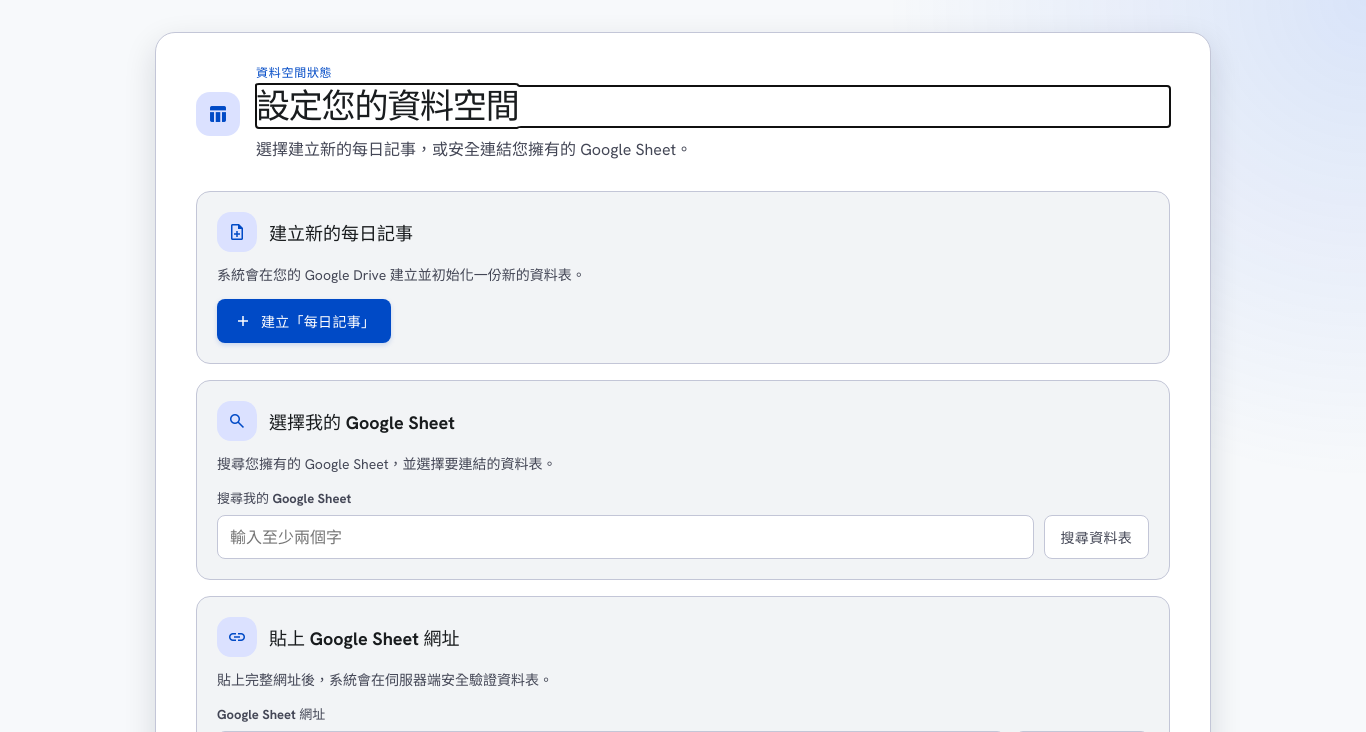
Test: 設定失敗時保留介面並顯示可讀錯誤
In the field labelled "搜尋我的 Google Sheet": (625, 537) [217,515,1034,559], type "記事"
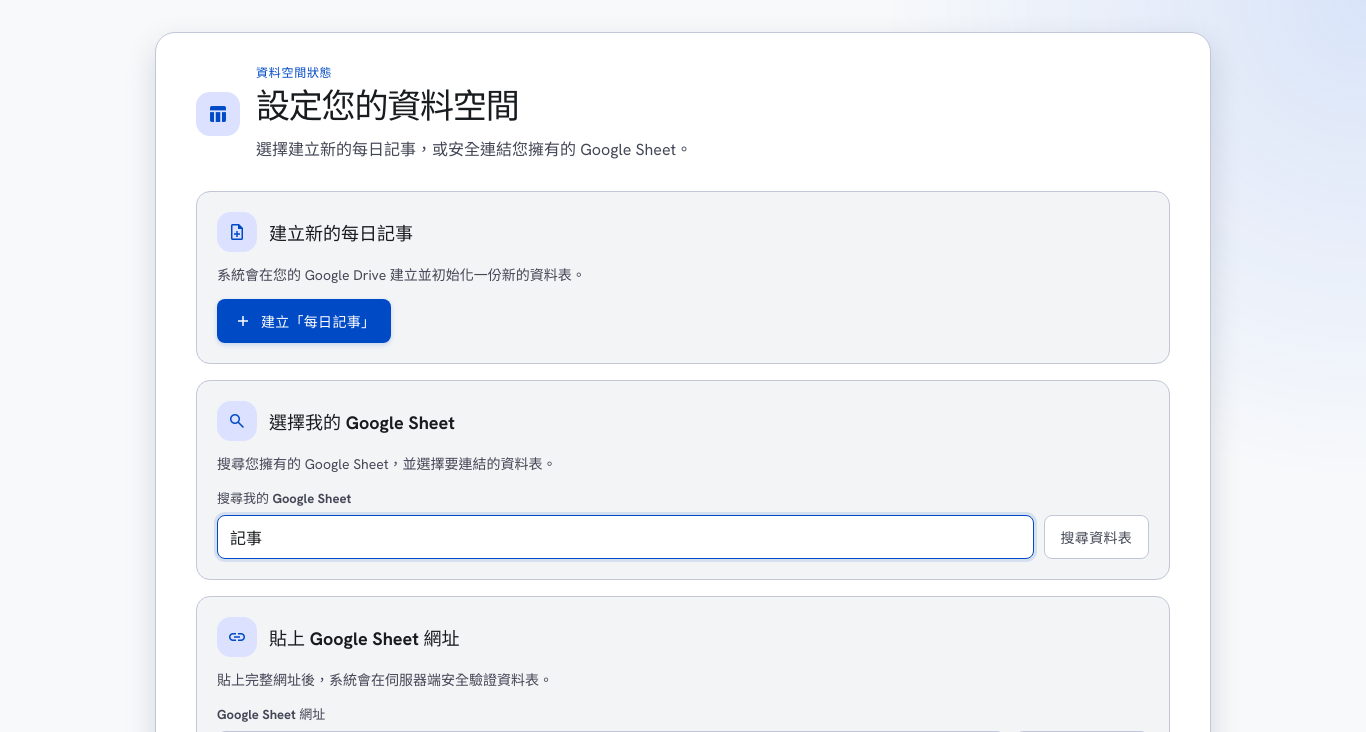
Press Enter
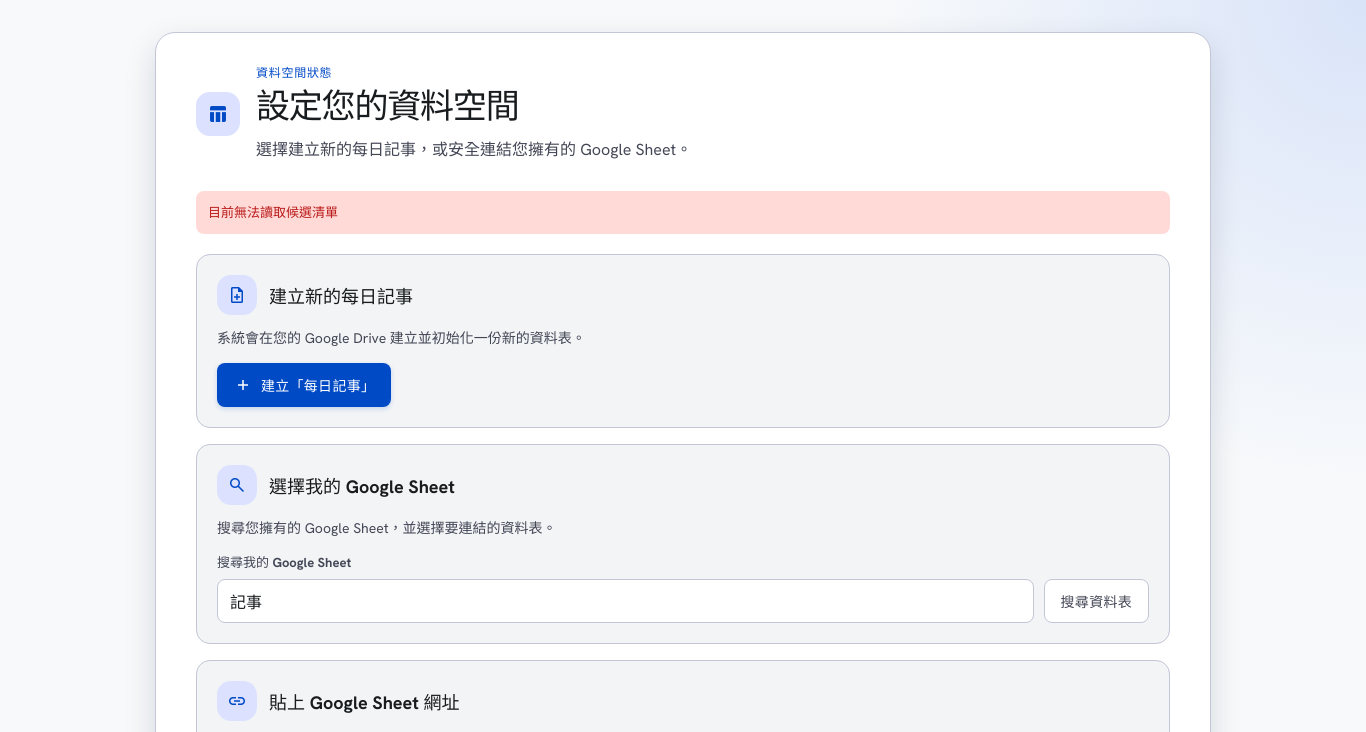
Expected: the button "建立「每日記事」" is enabled, [217,363,391,407]
Expected: the message reads "目前無法讀取候選清單", [208,204,338,221]
